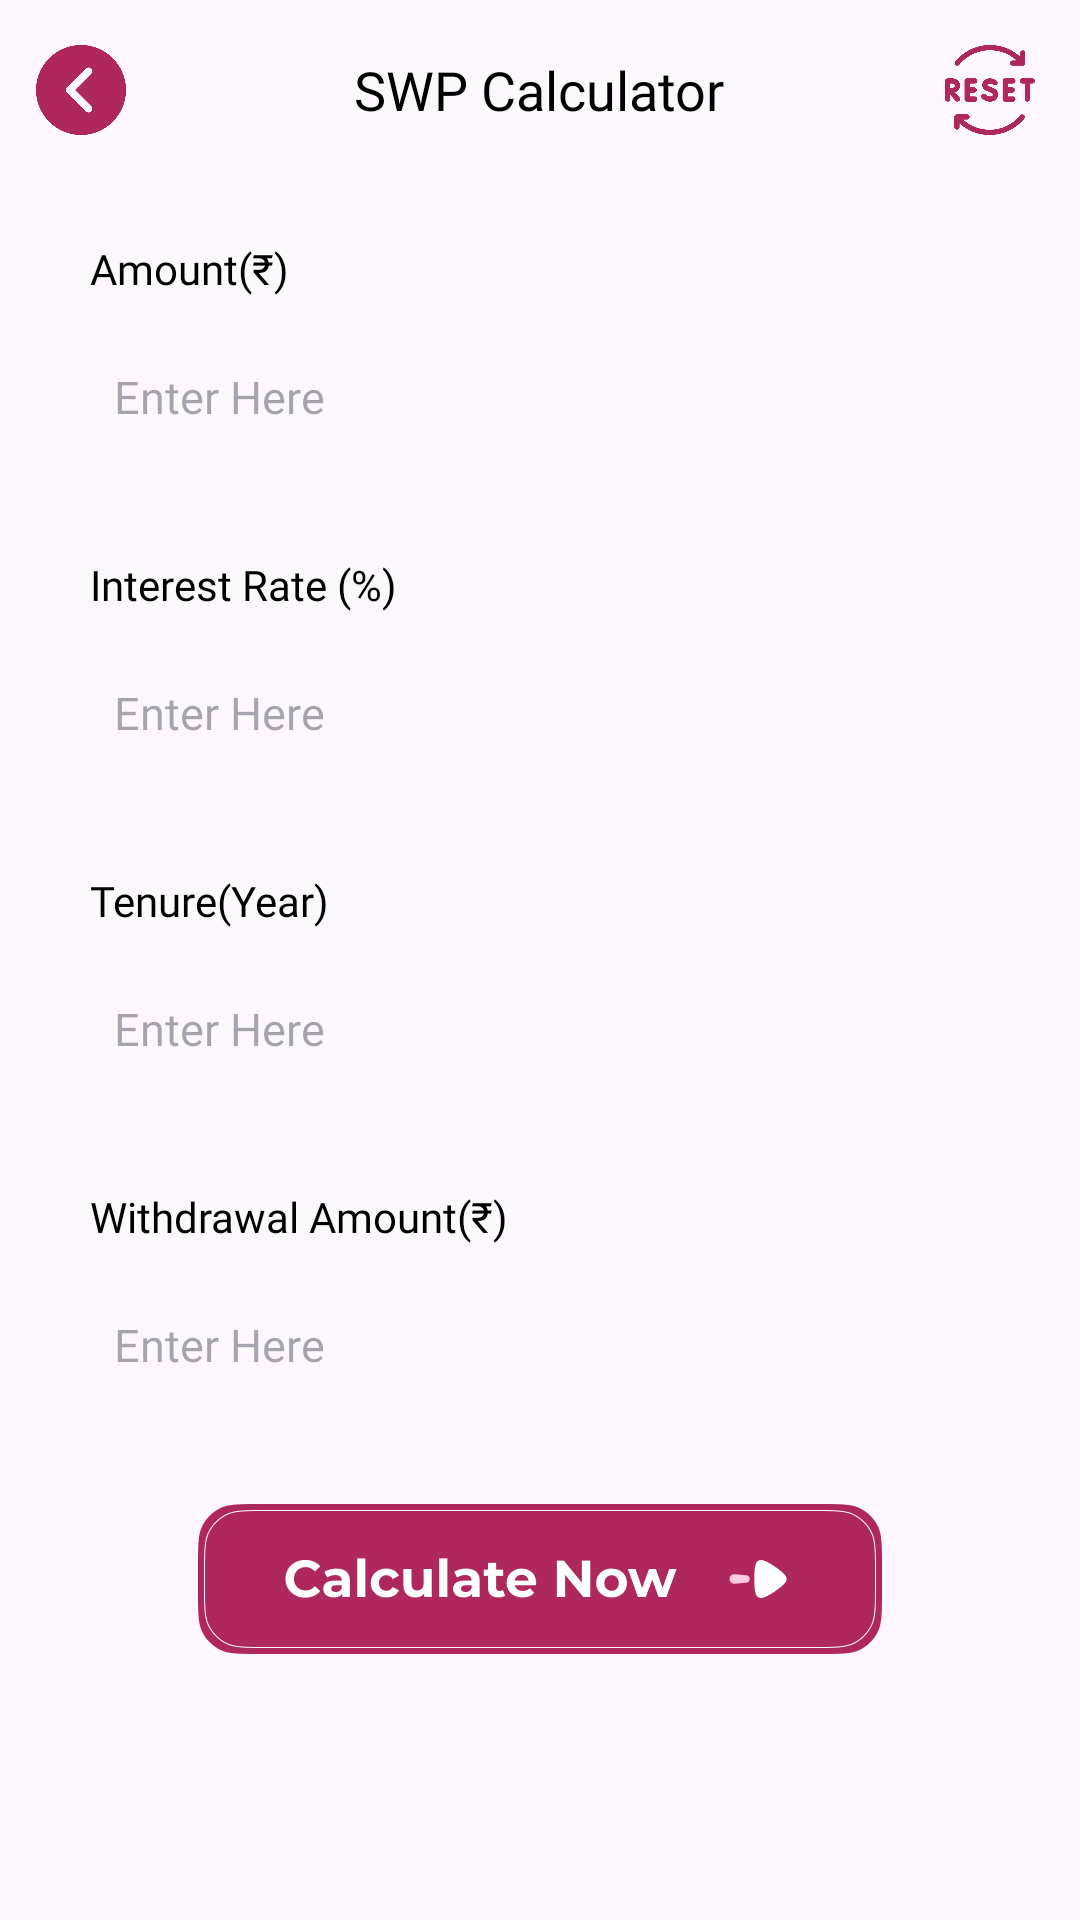

Icon click points for this 1080 x 1920 phone screenshot, format point (x, y):
back: point (81, 90)
